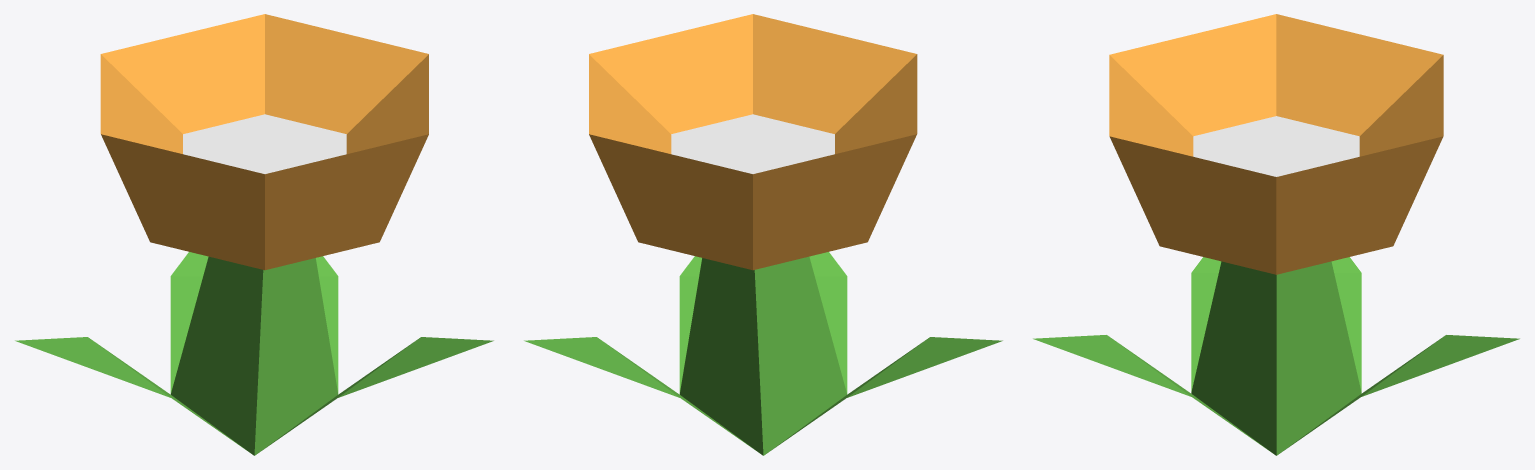
File: flower_yellowC.glb
The picture shows the model from 3 angles, left to right: view 1: azimuth 30°, elevation 25°; view 2: azimuth 150°, elevation 25°; view 3: azimuth 270°, elevation 25°; orthographic projection.
Visible parts, largest first — view 1: flower_yellowC; view 2: flower_yellowC; view 3: flower_yellowC.
Part boxes in pixels (bbox=[...]): flower_yellowC: bbox=[15, 14, 493, 455]; flower_yellowC: bbox=[524, 14, 1002, 455]; flower_yellowC: bbox=[1033, 14, 1519, 455].
Bounding box in the file's own units: 0.1806 × 0.1325 × 0.1811.
